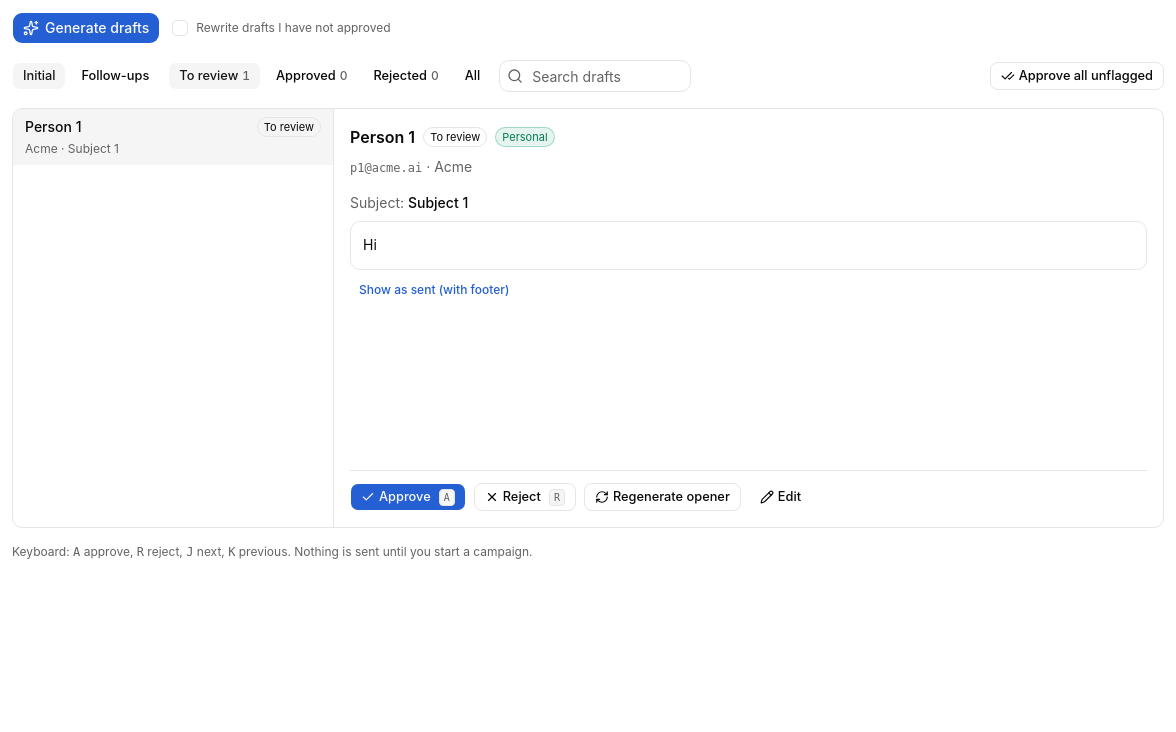
drafts panel kind filter › shows initial drafts by default and merges follow-up 1 and 2 under Follow-ups
Expected: the number of buttons with test id "draft-row" is 1, [13,109,333,165]
Click the button "Follow-ups": (115, 76) [70,62,160,90]
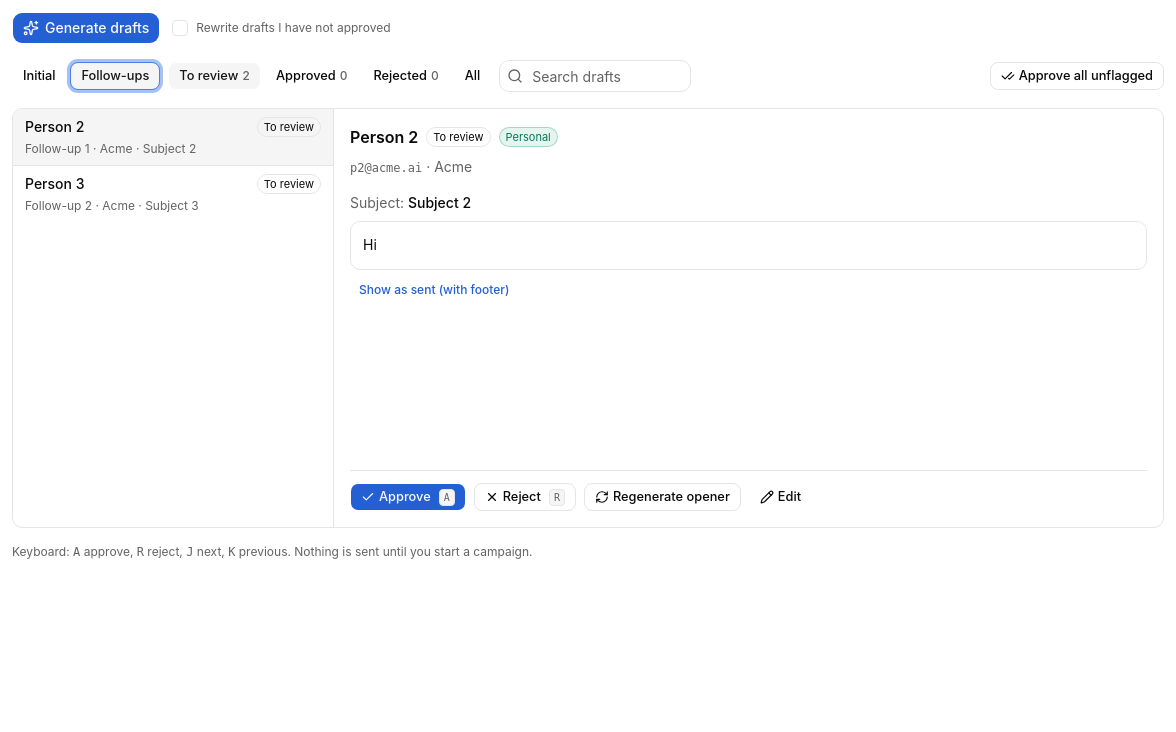
Result: the number of buttons with test id "draft-row" is 2 at [13,109,333,165]; [13,166,333,222]
Result: the text "Follow-up 1 · Acme · Subject 2" is shown at [25,141,196,156]
Result: the text "Follow-up 2 · Acme · Subject 3" is shown at [25,198,199,213]
